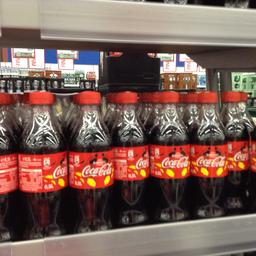soda: (18, 90, 65, 238), (66, 90, 111, 232), (108, 90, 150, 226), (151, 90, 190, 220), (190, 90, 226, 218), (217, 90, 248, 214)
